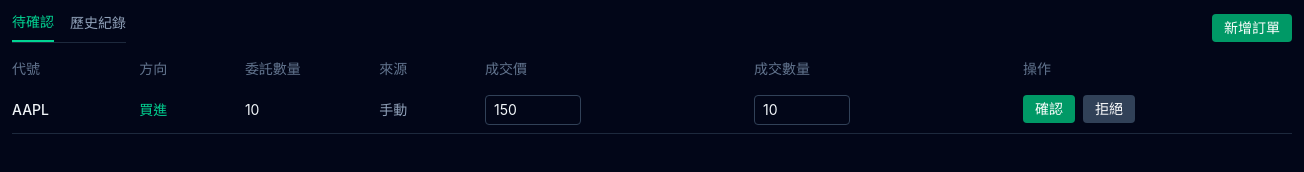
it: when confirming or rejecting fails › says why, instead of leaving the row looking untouched
This screenshot has width=1304, height=172.
Type "151.25" into the field named "成交價" at (533, 110), box [485, 95, 581, 125]
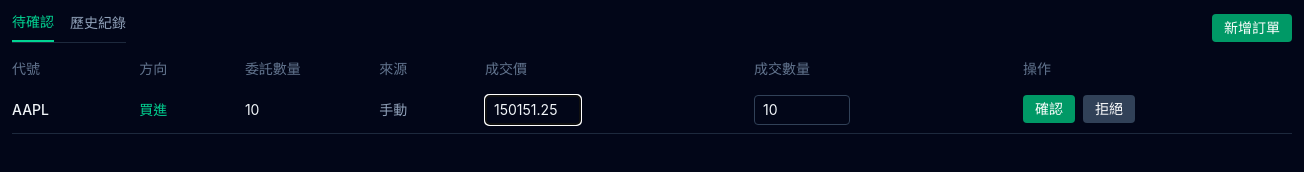
Click the button "確認" at (1049, 109), box [1023, 95, 1075, 123]
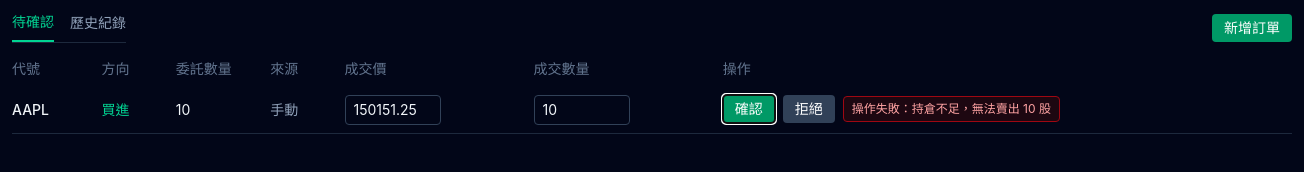
expect the message shows "持倉不足，無法賣出 10 股": met, box [912, 101, 1051, 116]
